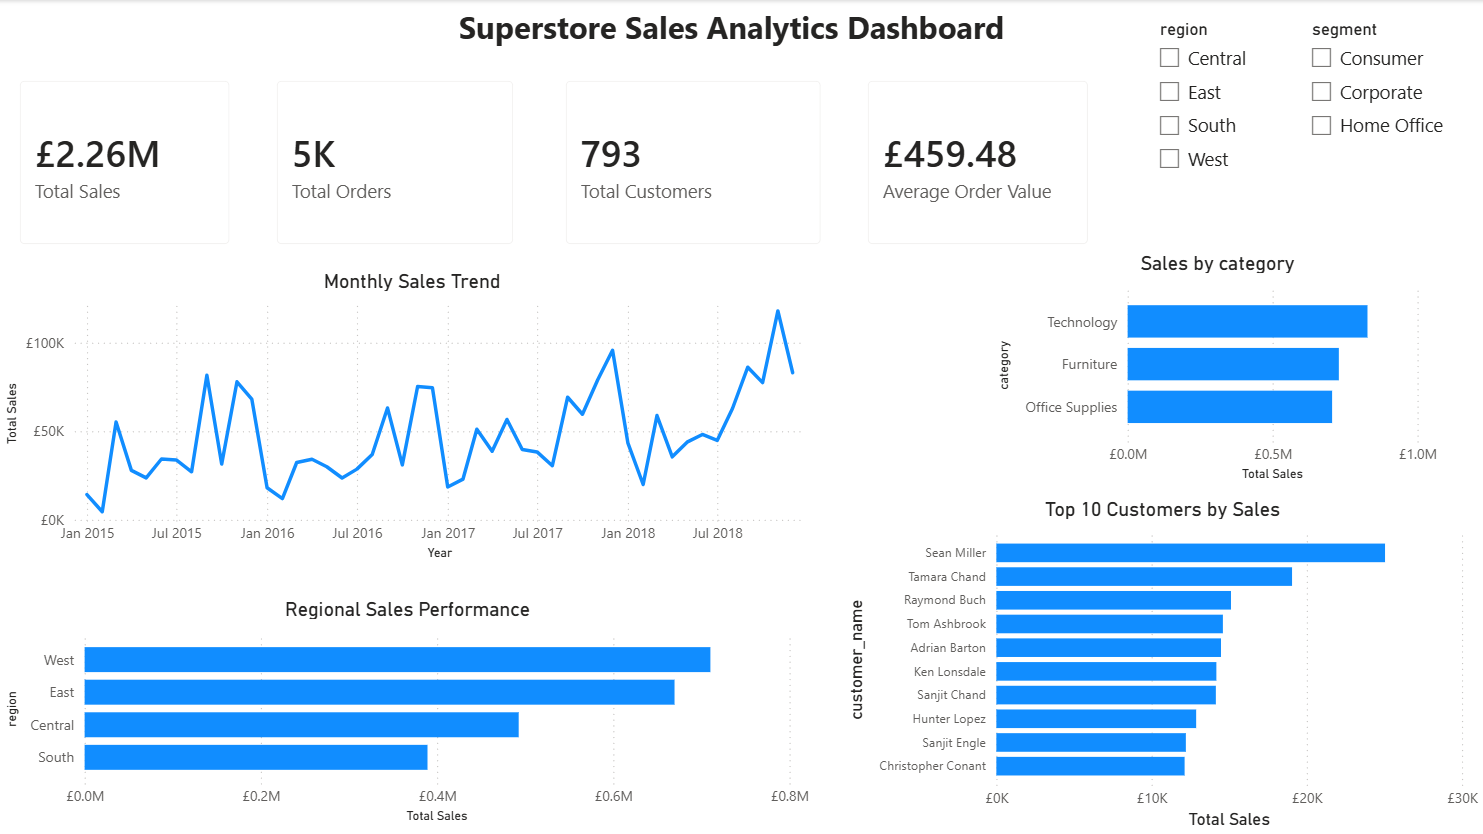

Layout of this report page (visuals, bound fields, positions):
{"tool":"powerbi","page":{"name":"Page 1","canvas":[1280,720],"ordinal":0},"visuals":[{"type":"cardVisual","fields":{"Data":["superstore_sales.Total Sales"]},"box":[0,52.6,215.6,176],"z":0},{"type":"cardVisual","fields":{"Data":["superstore_sales.Total Orders"]},"box":[221.7,52.6,238.9,176],"z":1000},{"type":"cardVisual","fields":{"Data":["superstore_sales.Total Customers"]},"box":[470.9,52.6,254.4,176],"z":2000},{"type":"cardVisual","fields":{"Data":["superstore_sales.Average Order Value"]},"box":[731.4,52.6,224.3,176],"z":3000},{"type":"lineChart","title":"Monthly Sales Trend","fields":{"Y":["superstore_sales.Total Sales"],"Category":["superstore_sales.order_date.Variation.Date Hierarchy.Year","superstore_sales.order_date.Variation.Date Hierarchy.Month"]},"box":[0,232,710.7,255.3],"z":4000},{"type":"barChart","title":"Regional Sales Performance","fields":{"Category":["superstore_sales.region"],"Y":["superstore_sales.Total Sales"]},"box":[0,514.9,703,199.2],"z":5000},{"type":"slicer","fields":{"Values":["superstore_sales.region"]},"box":[987.6,12.1,98.3,149.2],"z":6000},{"type":"slicer","fields":{"Values":["superstore_sales.segment"]},"box":[1118.7,12.1,132.8,120.8],"z":7000},{"type":"barChart","title":"Top 10 Customers by Sales","fields":{"Category":["superstore_sales.customer_name"],"Y":["superstore_sales.Total Sales"]},"box":[725.4,428.7,554.6,290.7],"z":8000},{"type":"barChart","title":"Sales by category","fields":{"Category":["superstore_sales.category"],"Y":["superstore_sales.Total Sales"]},"box":[855.6,216.5,389,202.7],"z":9000},{"type":"textbox","box":[390.7,0,498.5,52.6],"z":10000}]}

Visuals, with their boxes in screenshot pixels (x1, y1, x2, y2), scaled from the page's 1280x720 canvas onto the 1483x834 screenshot:
cardVisual - superstore_sales.Total Sales: left=0, top=61, right=250, bottom=265
cardVisual - superstore_sales.Total Orders: left=257, top=61, right=534, bottom=265
cardVisual - superstore_sales.Total Customers: left=546, top=61, right=840, bottom=265
cardVisual - superstore_sales.Average Order Value: left=847, top=61, right=1107, bottom=265
"Monthly Sales Trend" lineChart: left=0, top=269, right=823, bottom=564
"Regional Sales Performance" barChart: left=0, top=596, right=814, bottom=827
slicer - superstore_sales.region: left=1144, top=14, right=1258, bottom=187
slicer - superstore_sales.segment: left=1296, top=14, right=1450, bottom=154
"Top 10 Customers by Sales" barChart: left=840, top=497, right=1482, bottom=833
"Sales by category" barChart: left=991, top=251, right=1442, bottom=486
textbox: left=453, top=0, right=1030, bottom=61
